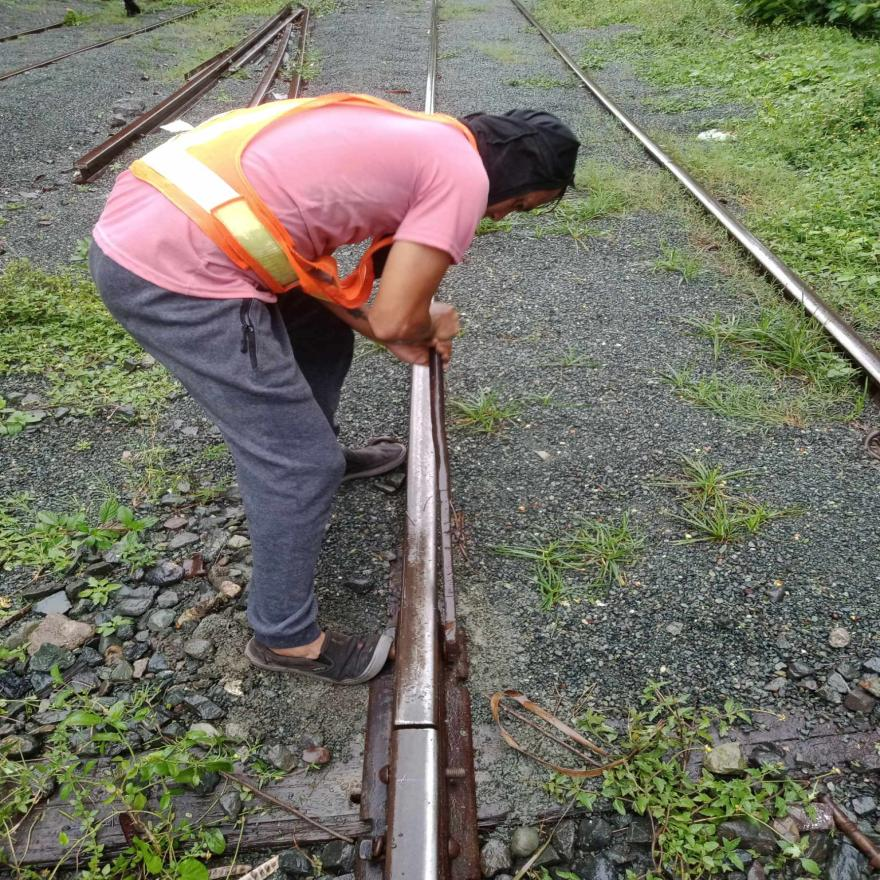railway-gap: (354, 679, 474, 773)
